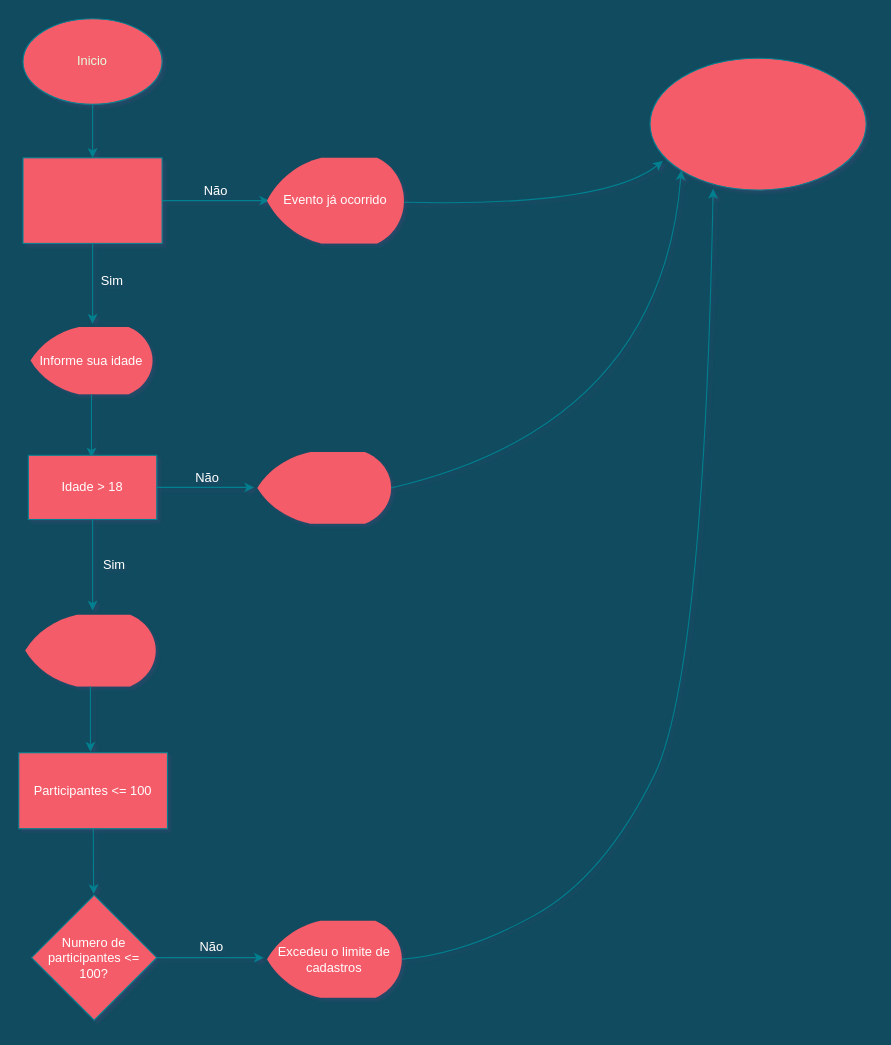
The diagram is 891 pixels wide and 1045 high, and some of its shapes have lost their labels. The centre of each missing label's shape, as x and y in pixels:
Cadastro efetuado com sucesso: the point at 90,650
Data Evento - Posterior a data atual: the point at 92,200
Evento para maiores de 18 anos: the point at 324,487
FIM: the point at 757,123
